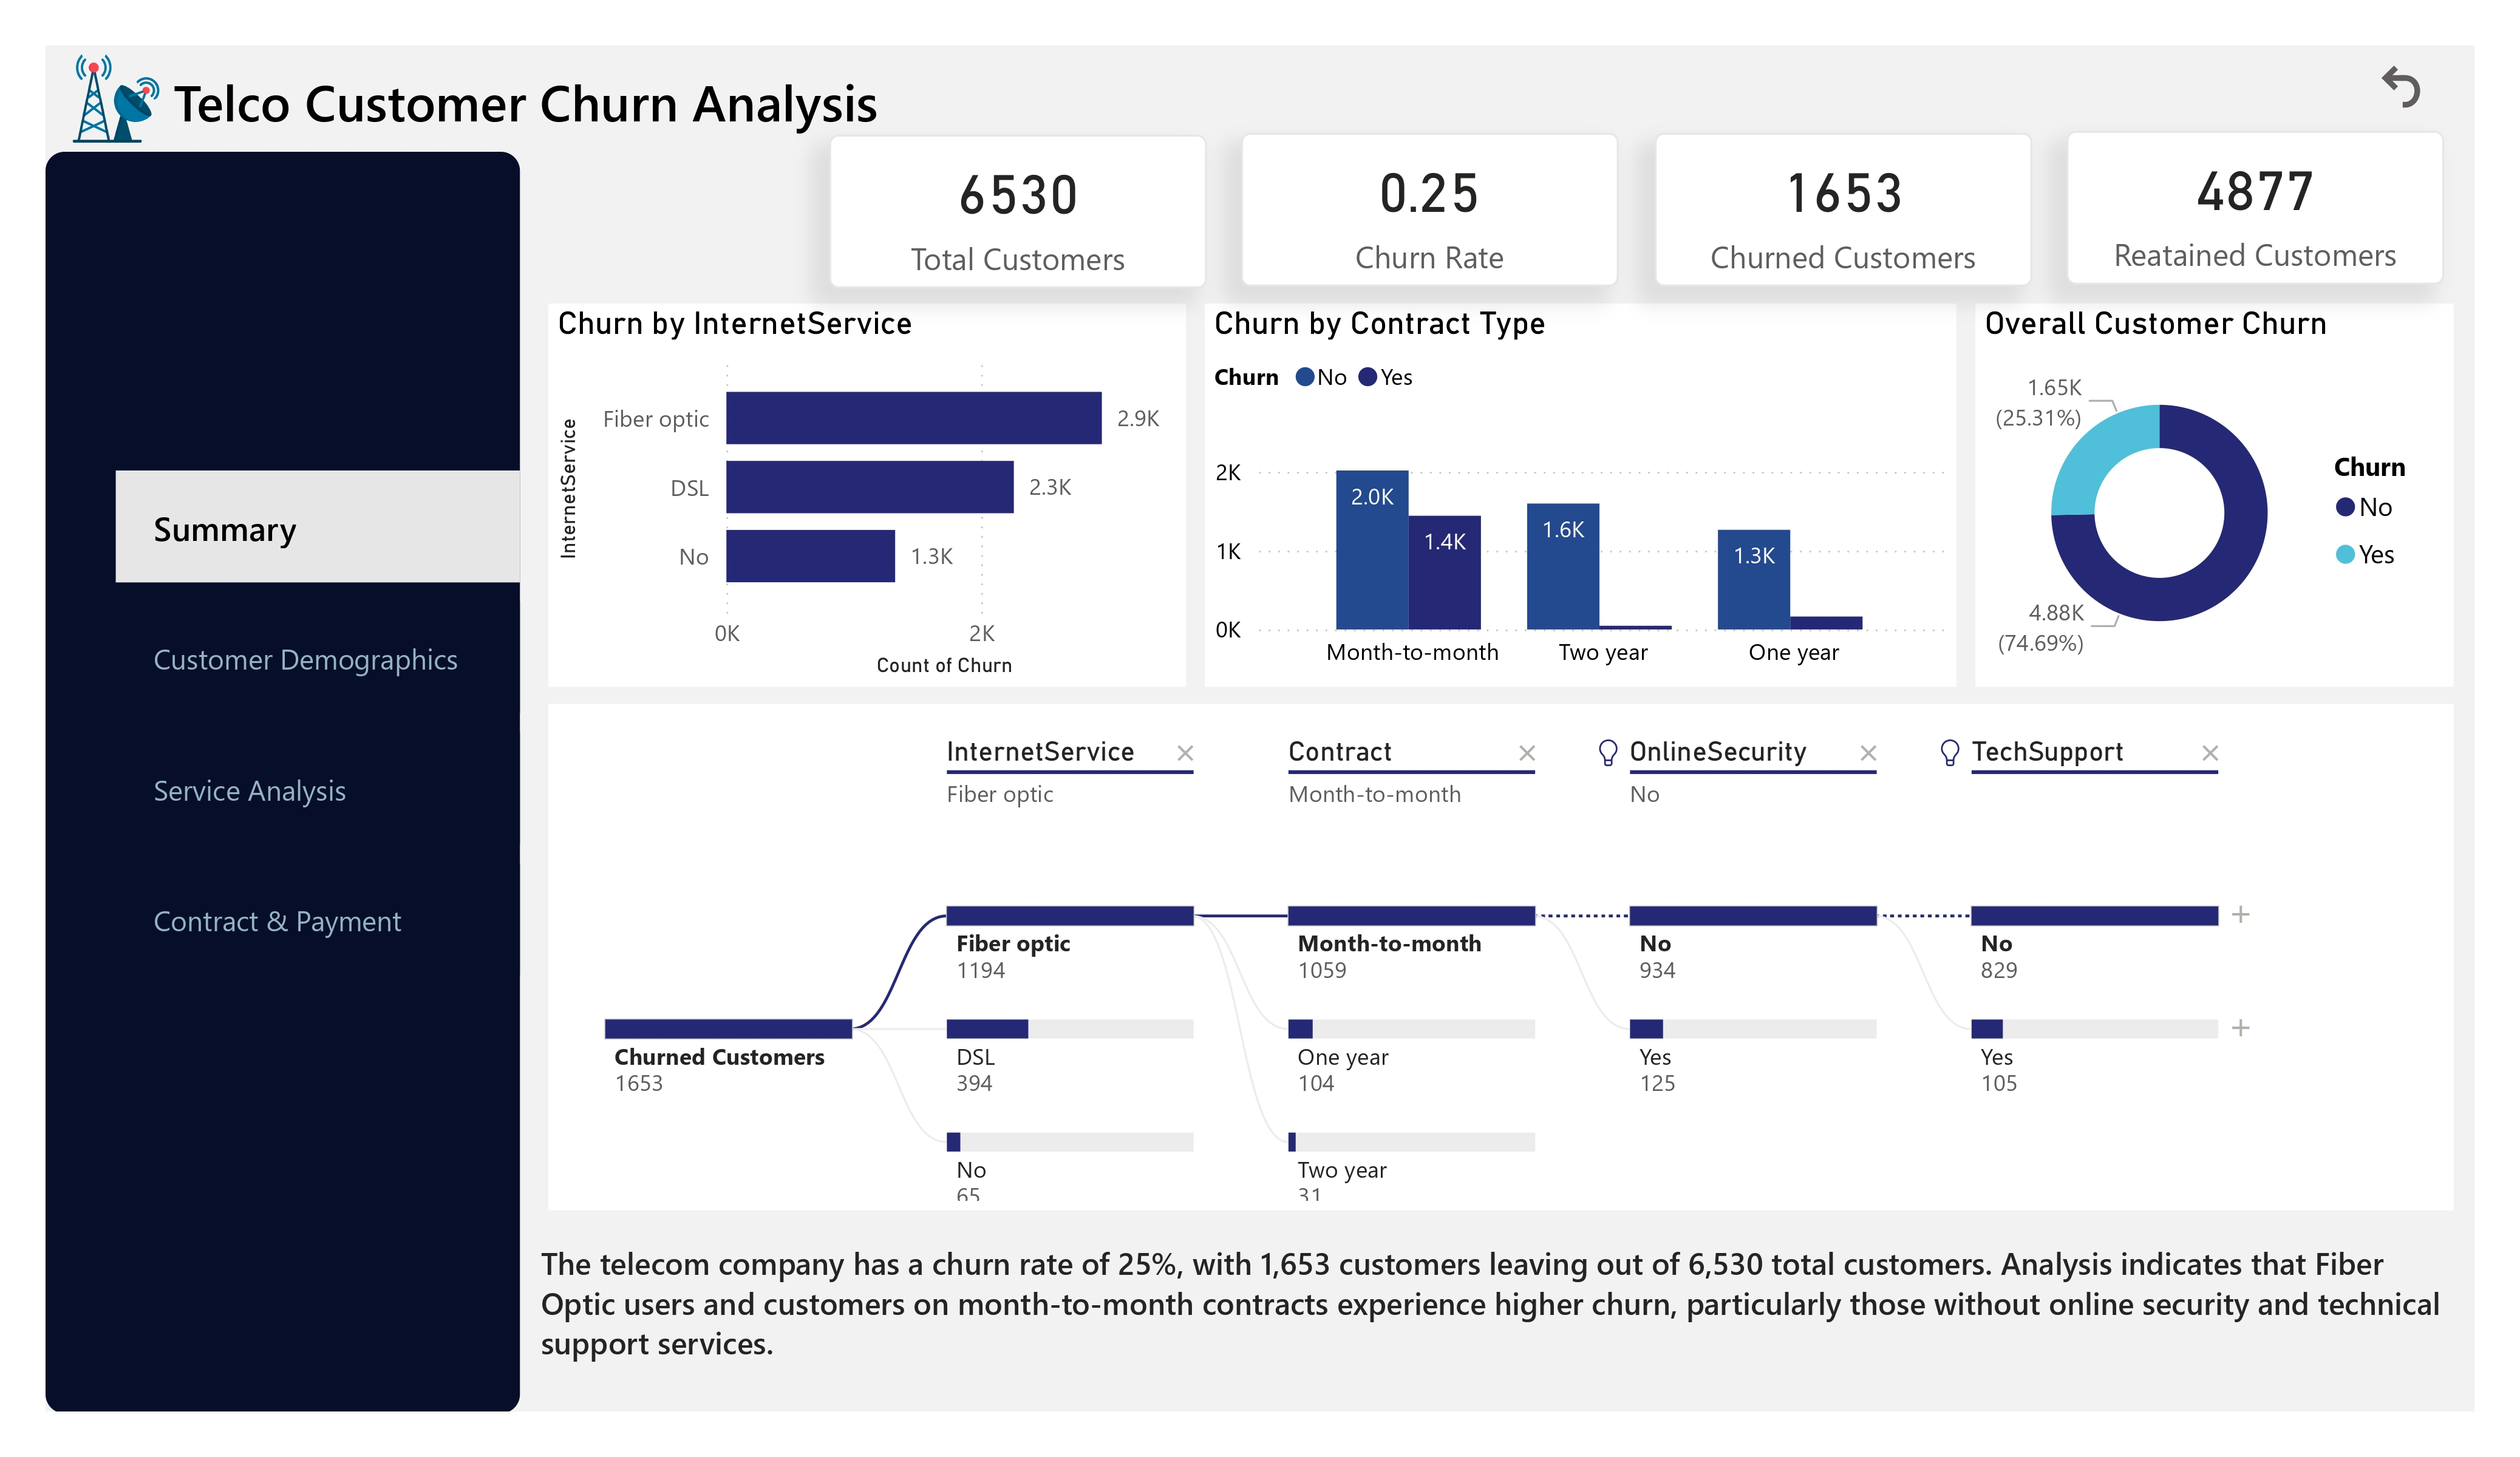

Layout of this report page (visuals, bound fields, positions):
{"tool":"powerbi","page":{"name":"Summary","canvas":[1280,720],"ordinal":0},"visuals":[{"type":"shape","box":[0,56.4,250,664.1],"z":0},{"type":"pageNavigator","box":[36.8,223.7,213.2,267.1],"z":1000},{"type":"textbox","box":[41,6.4,416.7,50],"z":2000},{"type":"image","box":[14.1,0,46.2,56.4],"z":3000},{"type":"donutChart","title":"Overall Customer Churn","fields":{"Category":["Telco-Customer-Churn.Churn"],"Y":["CountNonNull(Telco-Customer-Churn.customerID)"]},"box":[1016.7,135.9,252.6,202.6],"z":4000},{"type":"card","fields":{"Values":["Telco-Customer-Churn.Reatained Customers"]},"box":[1065.4,44.9,198.7,80.8],"z":5000},{"type":"clusteredColumnChart","title":"Churn by Contract Type","fields":{"Category":["Telco-Customer-Churn.Contract"],"Series":["Telco-Customer-Churn.Churn"],"Y":["Telco-Customer-Churn.Total Customers"]},"box":[610.9,135.9,396.2,202.6],"z":6000},{"type":"textbox","box":[256.4,625.6,1023.1,84.6],"z":7000},{"type":"barChart","title":" Churn by InternetService","fields":{"Y":["CountNonNull(Telco-Customer-Churn.Churn)"],"Category":["Telco-Customer-Churn.InternetService"]},"box":[265.4,135.9,335.9,202.6],"z":8000},{"type":"decompositionTreeVisual","fields":{"Analyze":["Telco-Customer-Churn.Churned Customers"],"ExplainBy":["Telco-Customer-Churn.InternetService","Telco-Customer-Churn.Contract","Telco-Customer-Churn.OnlineSecurity","Telco-Customer-Churn.TechSupport","Telco-Customer-Churn.StreamingTV"]},"box":[265.4,347.4,1003.8,266.7],"z":9000},{"type":"card","fields":{"Values":["Telco-Customer-Churn.Churned Customers"]},"box":[847.9,46.2,198.7,80.8],"z":10000},{"type":"card","fields":{"Values":["Telco-Customer-Churn.Churn Rate"]},"box":[630.3,46.2,198.7,80.8],"z":11000},{"type":"card","fields":{"Values":["Telco-Customer-Churn.Total Customers"]},"box":[412.8,47.4,198.7,80.8],"z":12000},{"type":"actionButton","box":[1225.7,5.7,38.6,31.4],"z":13000}]}

Visuals, with their boxes on the page's 1280x720 design canvas (x1, y1, x2, y2). These are canvas units, not pixel positions in the 2520x1457 screenshot, which may show the page scaled, cropped or inside an application window:
shape: [x1=0, y1=56, x2=250, y2=720]
pageNavigator: [x1=37, y1=224, x2=250, y2=491]
textbox: [x1=41, y1=6, x2=458, y2=56]
image: [x1=14, y1=0, x2=60, y2=56]
"Overall Customer Churn" donutChart: [x1=1017, y1=136, x2=1269, y2=338]
card - Telco-Customer-Churn.Reatained Customers: [x1=1065, y1=45, x2=1264, y2=126]
"Churn by Contract Type" clusteredColumnChart: [x1=611, y1=136, x2=1007, y2=338]
textbox: [x1=256, y1=626, x2=1280, y2=710]
" Churn by InternetService" barChart: [x1=265, y1=136, x2=601, y2=338]
decompositionTreeVisual - Telco-Customer-Churn.Churned Customers x Telco-Customer-Churn.InternetService: [x1=265, y1=347, x2=1269, y2=614]
card - Telco-Customer-Churn.Churned Customers: [x1=848, y1=46, x2=1047, y2=127]
card - Telco-Customer-Churn.Churn Rate: [x1=630, y1=46, x2=829, y2=127]
card - Telco-Customer-Churn.Total Customers: [x1=413, y1=47, x2=612, y2=128]
actionButton: [x1=1226, y1=6, x2=1264, y2=37]
